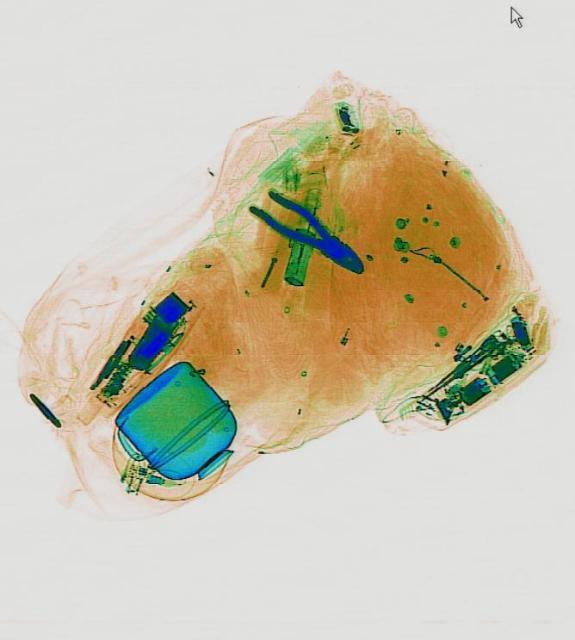Pliers: (244, 178, 371, 286)
